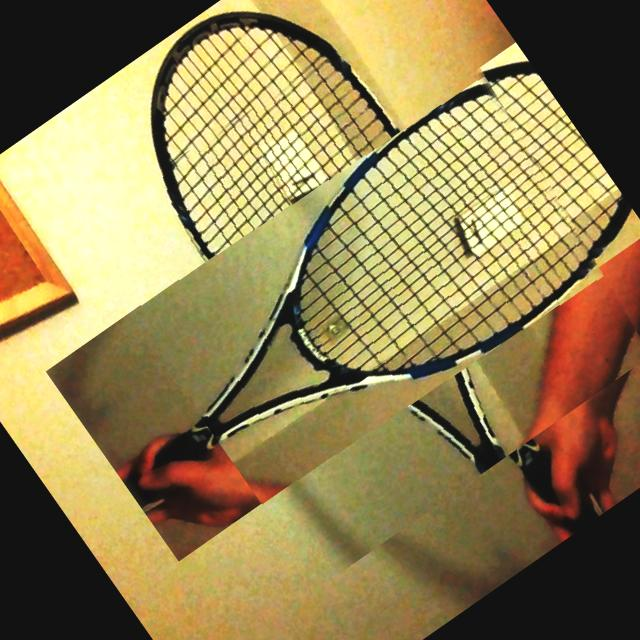TennisRacket: (69, 0, 640, 586)
